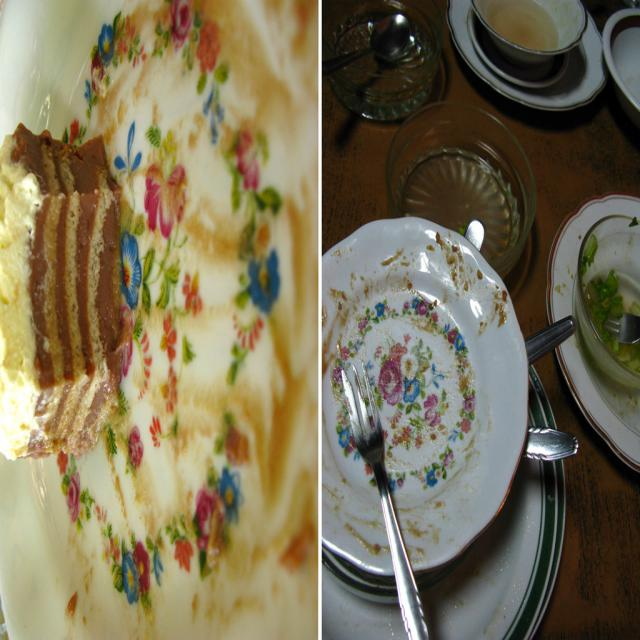non-organic waste: (293, 205, 568, 640)
